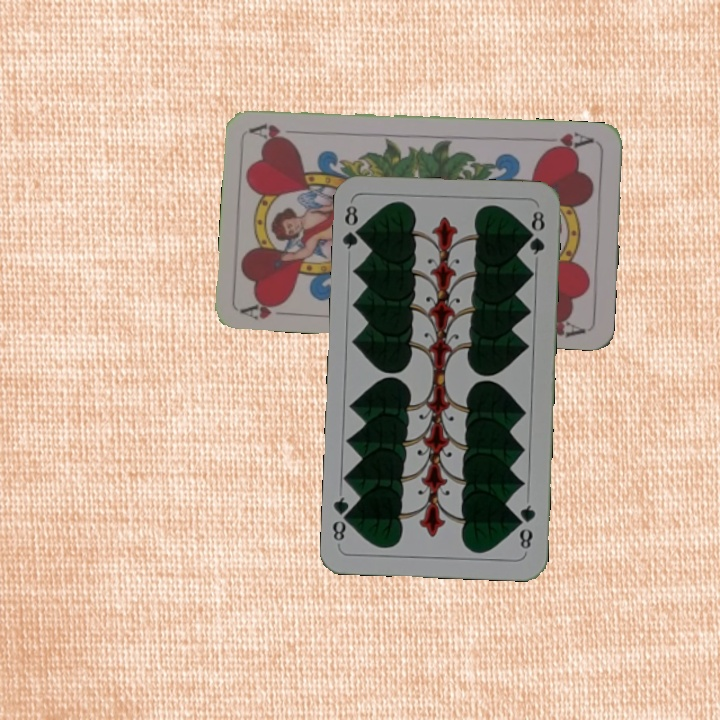G8: (339, 201, 366, 252), (514, 501, 538, 552)
HA: (239, 295, 298, 322), (540, 128, 596, 155)
